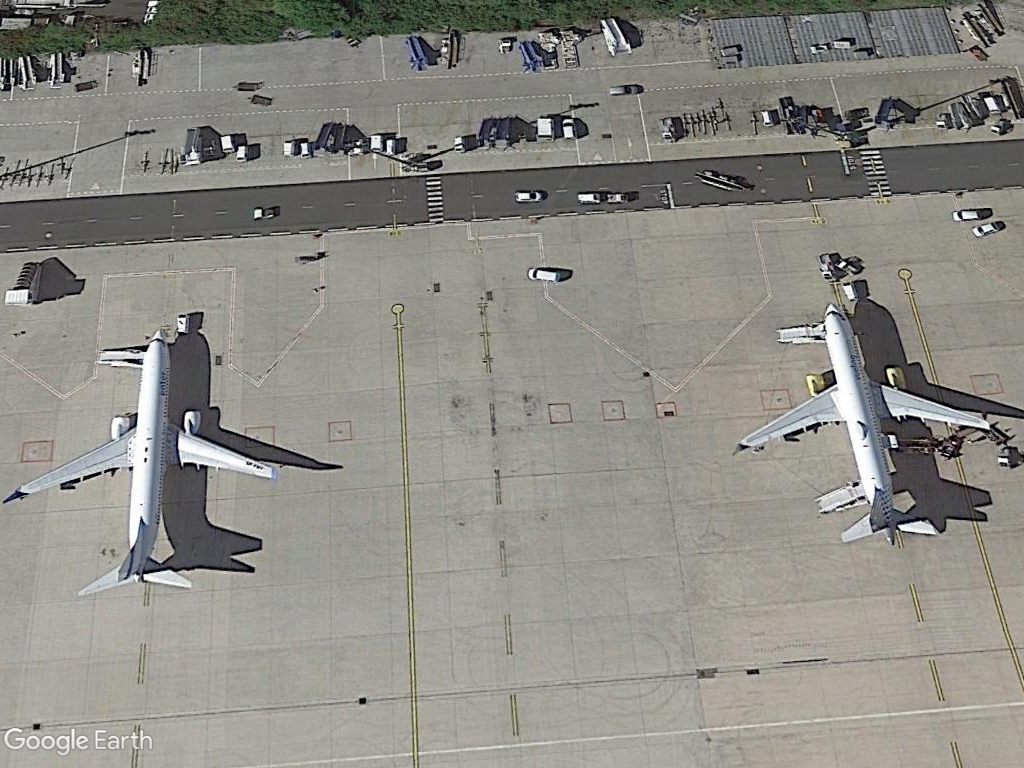airliner: (5, 325, 279, 601), (731, 304, 994, 548)
car: (526, 265, 564, 283), (512, 186, 547, 204), (560, 116, 581, 145), (606, 83, 645, 96), (950, 207, 983, 221)
stairtruck: (4, 262, 41, 308)
